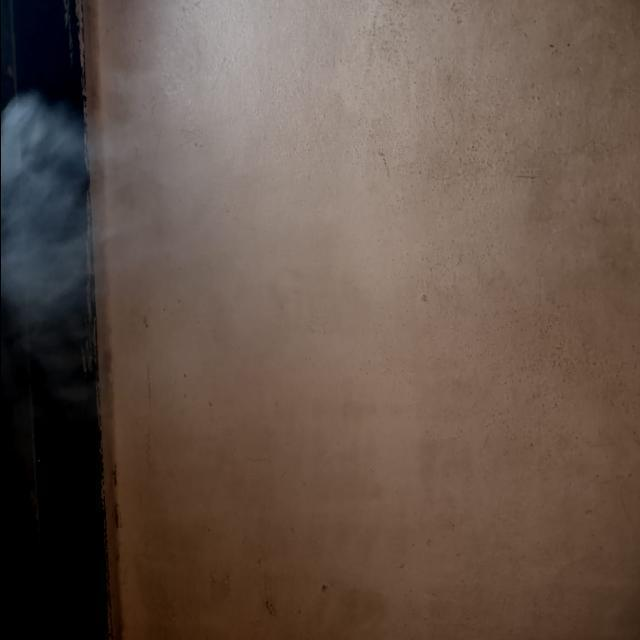fire: (0, 90, 219, 334)
